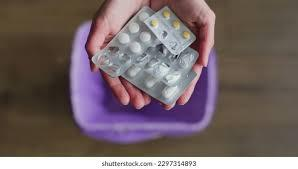pill_Strip: (92, 7, 197, 103), (92, 6, 159, 76), (121, 47, 197, 104), (122, 70, 196, 104), (145, 6, 195, 54), (144, 45, 198, 85), (153, 6, 195, 52), (145, 16, 180, 54), (159, 70, 196, 104), (144, 44, 171, 80), (167, 47, 198, 77), (144, 58, 170, 78), (164, 70, 181, 84), (162, 86, 179, 99), (135, 52, 151, 64), (129, 41, 142, 54), (144, 76, 157, 88), (127, 65, 140, 77), (118, 33, 129, 44), (140, 31, 151, 42), (128, 22, 139, 33), (138, 12, 149, 21), (172, 20, 180, 29), (162, 10, 170, 18), (150, 19, 158, 27)
